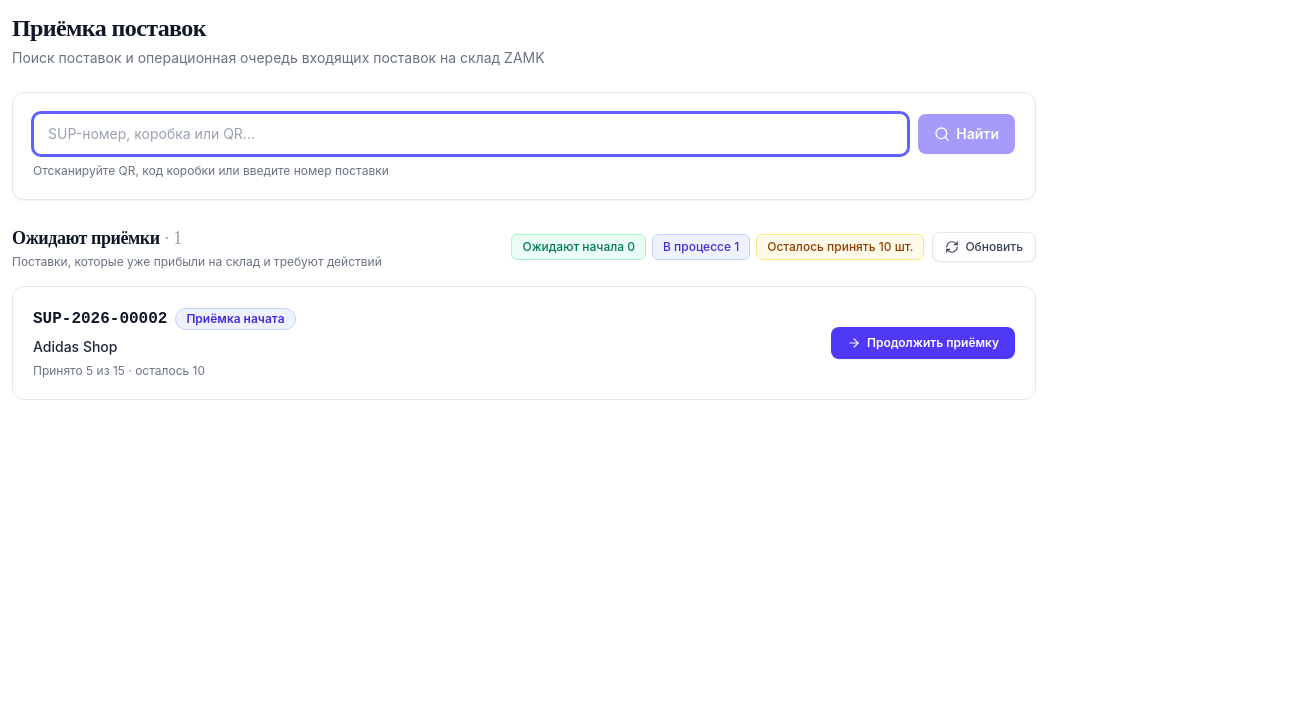
AdminSupplyReceiving Queue (WH.3) › clicking "Продолжить приёмку" on receiving supply resumes session and enters scanning screen
The image size is (1292, 708).
Click the button "Продолжить приёмку" at (923, 343), box [831,327,1015,359]
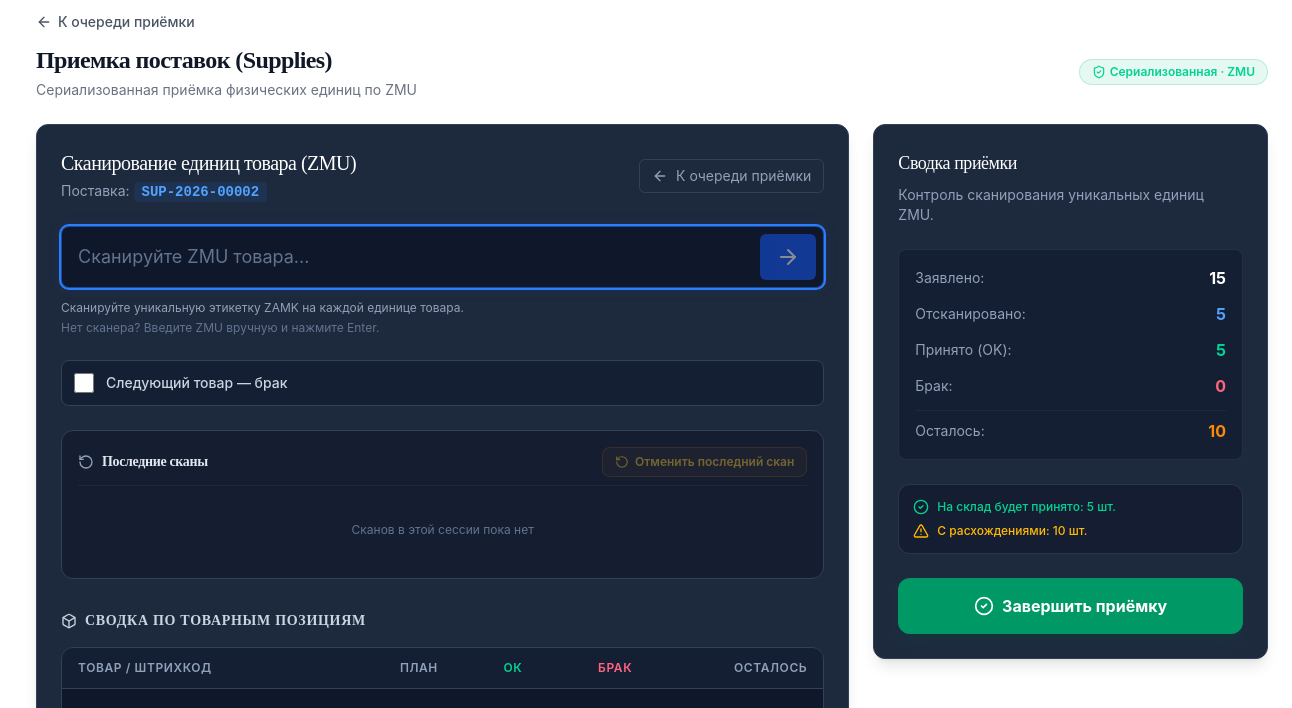
Expected: the field with placeholder "Сканируйте ZMU товара..." is shown, [61,226,824,288]
